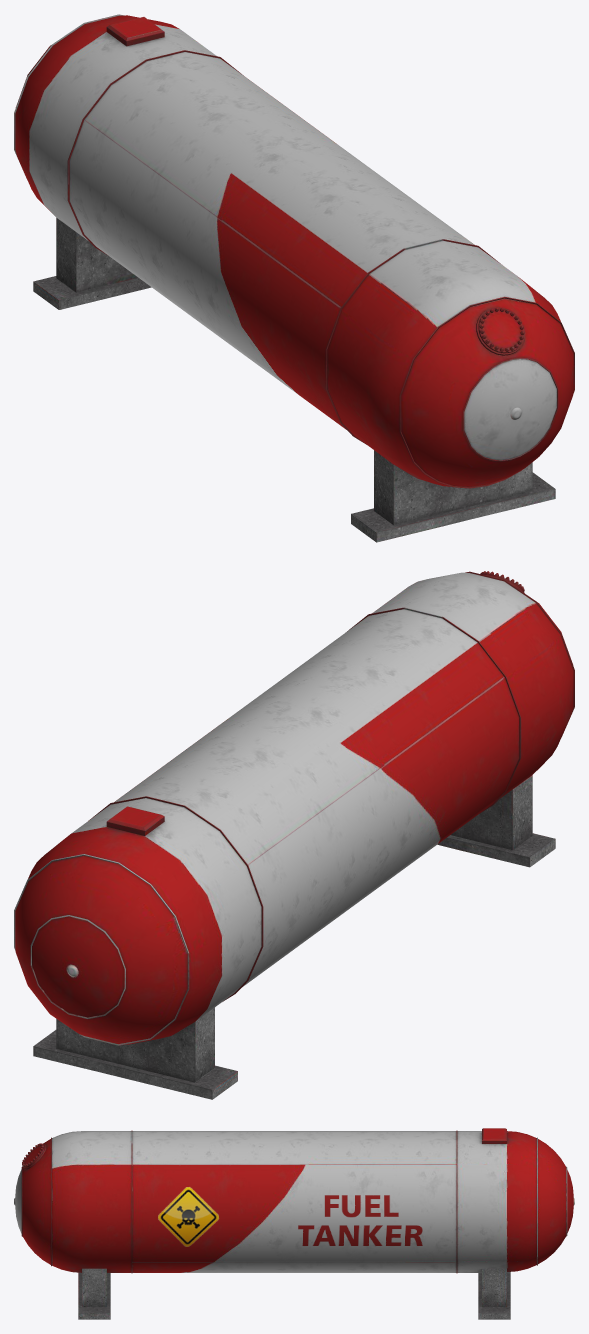
Rendered from Gas_Tanker.fbx.
The picture shows the model from 3 angles, top to bottom: view 1: azimuth 30°, elevation 25°; view 2: azimuth 150°, elevation 25°; view 3: azimuth 270°, elevation 25°; orthographic projection. The views are drawn at different scales.
Parts seen in each view (by area): view 1: Gas_Tanker; view 2: Gas_Tanker; view 3: Gas_Tanker.
Part boxes in pixels (x1=…): Gas_Tanker: x1=14, y1=14, x2=574, y2=542; Gas_Tanker: x1=14, y1=571, x2=574, y2=1099; Gas_Tanker: x1=14, y1=1128, x2=574, y2=1319.
Bounding box in the file's own units: 1.98 × 2.45 × 7.86.
